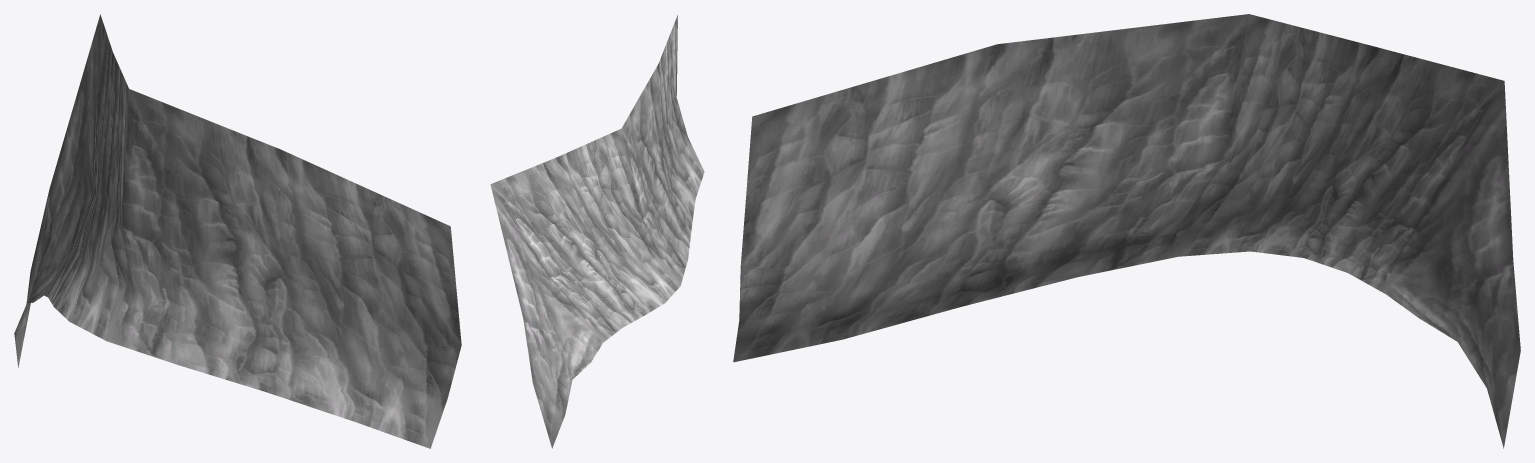
File: SWORDLIGHT20_PS-AREA03_188.fbx
The picture shows the model from 3 angles, left to right: view 1: azimuth 30°, elevation 25°; view 2: azimuth 150°, elevation 25°; view 3: azimuth 270°, elevation 25°; orthographic projection. The views are drawn at different scales.
Visible parts, largest first — view 1: SWORDLIGHT20_PS-AREA03_188; view 2: SWORDLIGHT20_PS-AREA03_188; view 3: SWORDLIGHT20_PS-AREA03_188.
Part boxes in pixels (x1=…): SWORDLIGHT20_PS-AREA03_188: x1=14, y1=14, x2=461, y2=448; SWORDLIGHT20_PS-AREA03_188: x1=490, y1=15, x2=704, y2=448; SWORDLIGHT20_PS-AREA03_188: x1=733, y1=14, x2=1520, y2=448.
Size of the model in its own units: 42759 by 76518 by 123759.
Materials: 2 (2 with a texture image).
